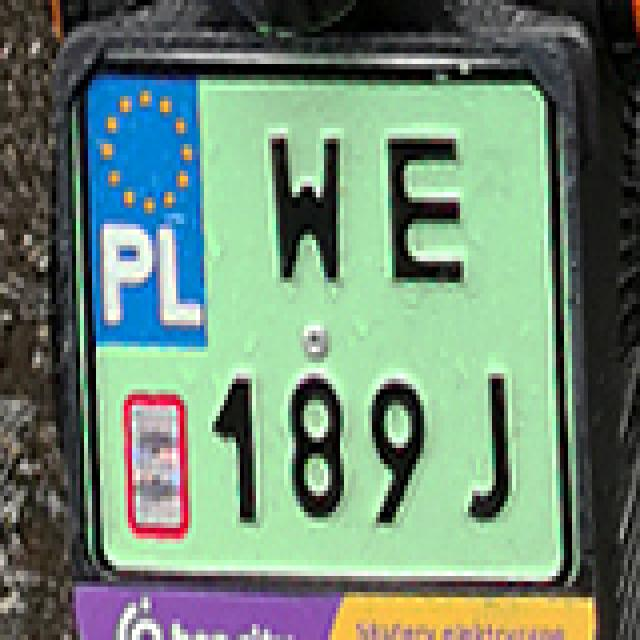pl_license_plate: (76, 58, 564, 570)
